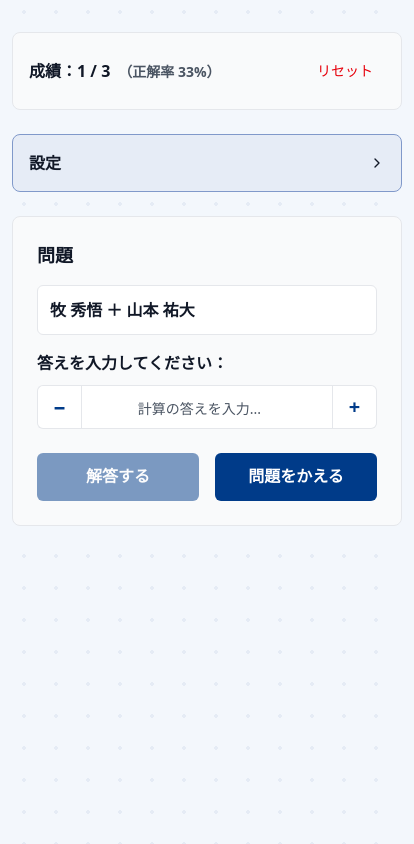
Test: Question Component › should reset the game when retry button is clicked
Step 1. Type "999" into the number field with test id "number-input" → (207, 407), box x1=81 y1=385 x2=333 y2=429
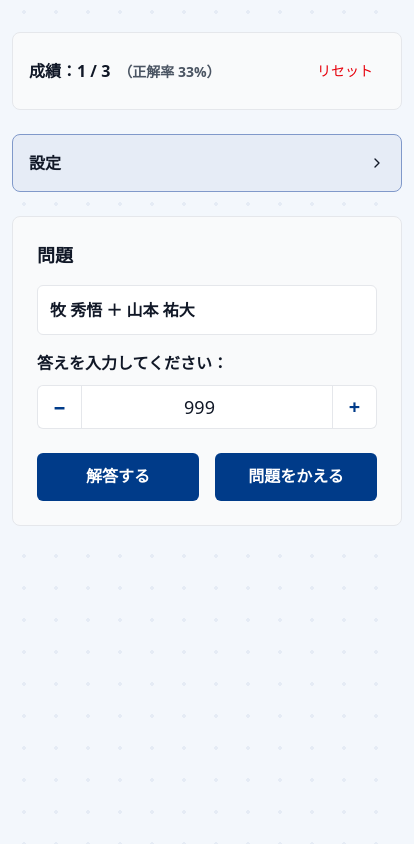
Step 2. Click the button "解答する" → (118, 477), box x1=37 y1=453 x2=199 y2=501
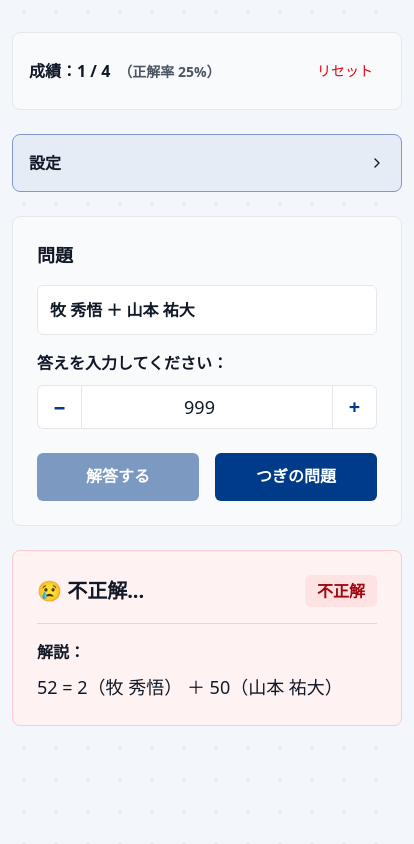
Expected: the number field with test id "number-input" is disabled, x1=81 y1=385 x2=333 y2=429
Expected: the text "😢 不正解..." is shown, x1=37 y1=577 x2=144 y2=605
Step 3. Click the button "問題をかえる" → (296, 477), box x1=215 y1=453 x2=377 y2=501
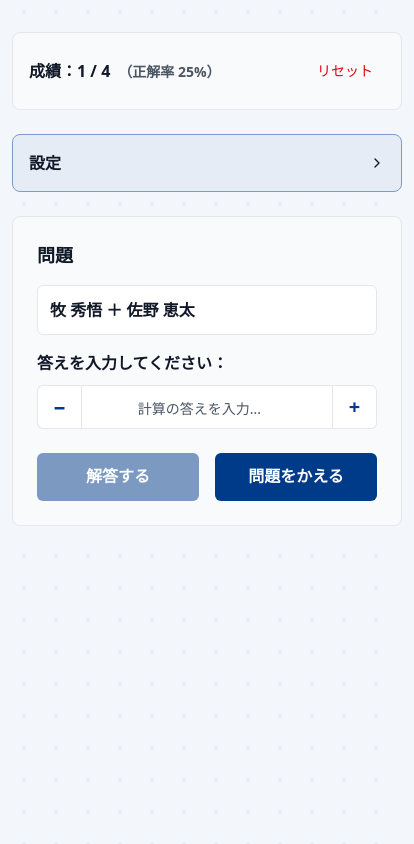
Expected: the number field with test id "number-input" is not empty, x1=81 y1=385 x2=333 y2=429
Expected: the number field with test id "number-input" is enabled, x1=81 y1=385 x2=333 y2=429
Expected: the text "😢 不正解..." is gone
